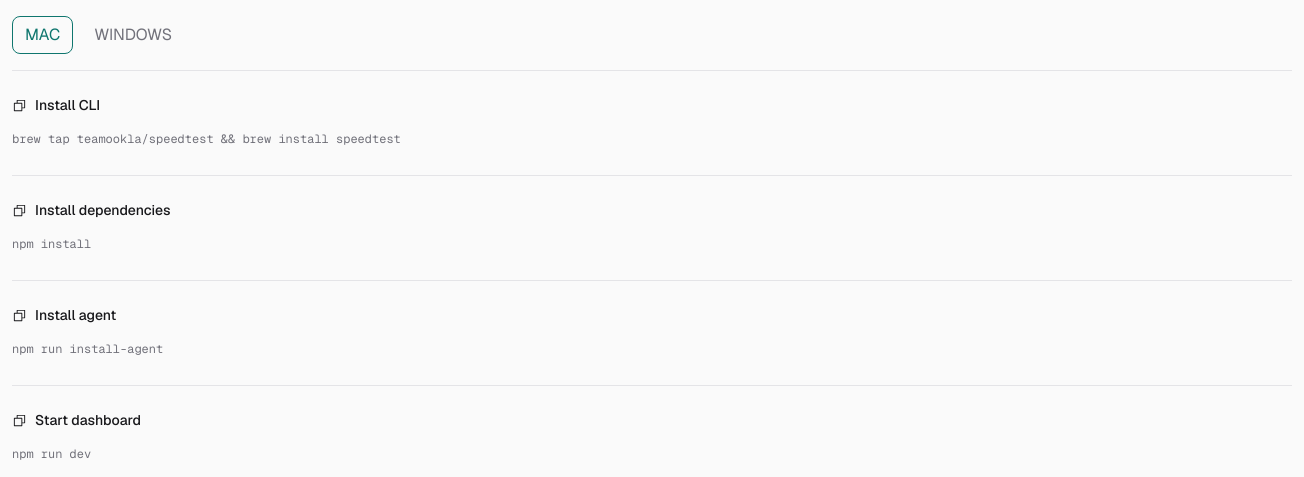
Test: LandingCommands client behavior › shows textual failure feedback when the Clipboard API is missing
This screenshot has width=1304, height=477.
Click the button "Install agent npm run install-agent". click: (76, 315)
box: x1=12 y1=281 x2=1292 y2=385
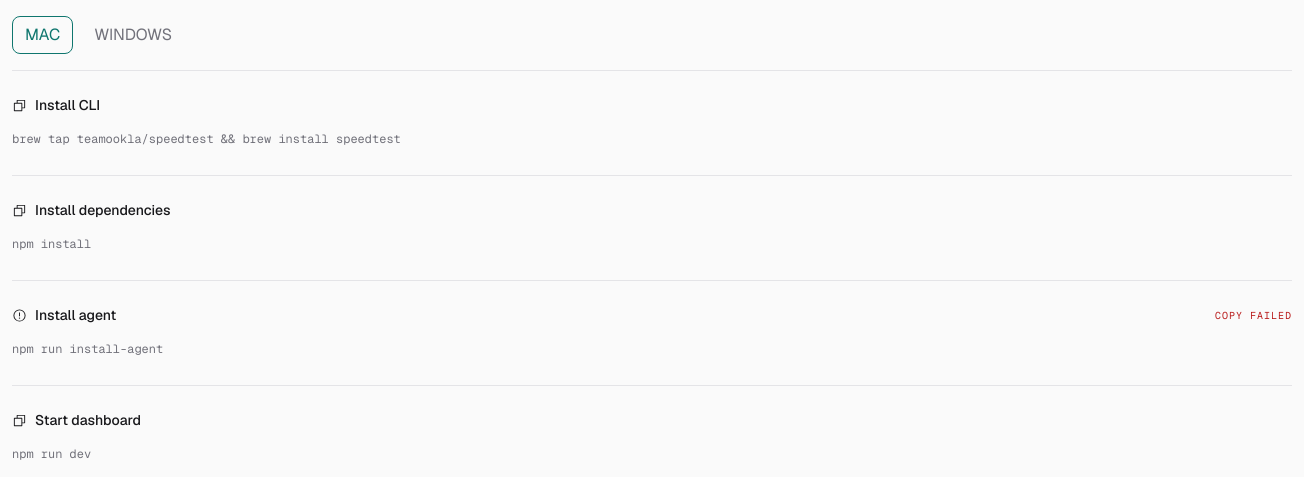
Result: the text "Copy failed" is shown at x1=1215 y1=308 x2=1292 y2=322
